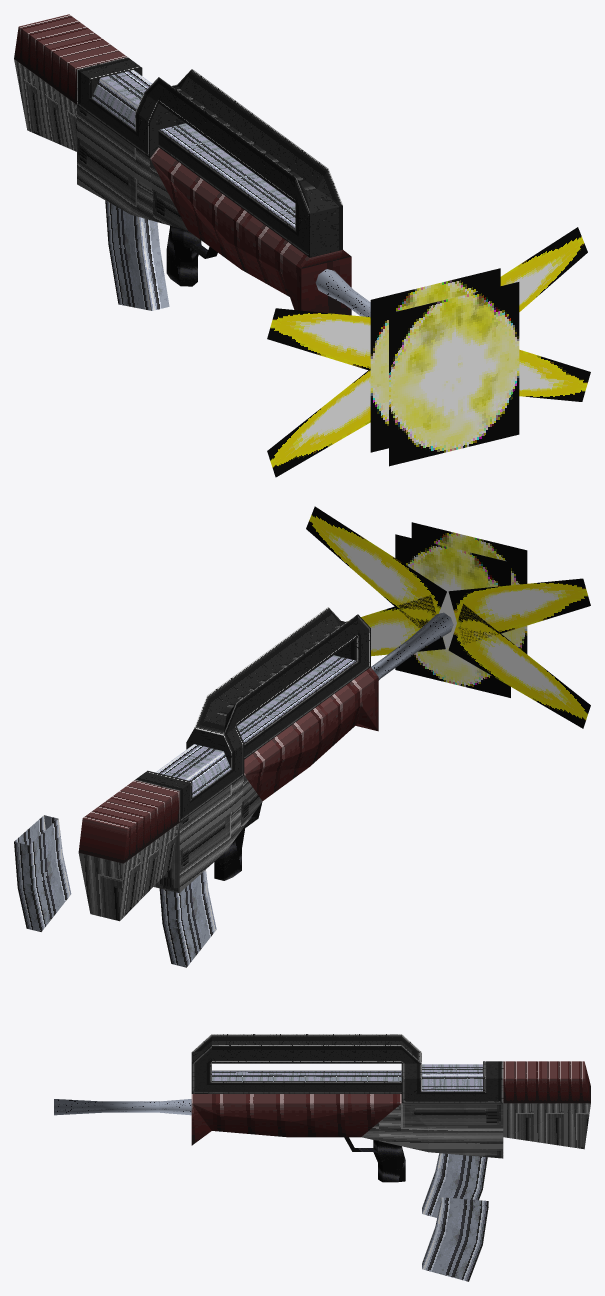
File: Gun0011.obj
The picture shows the model from 3 angles, top to bottom: view 1: azimuth 30°, elevation 25°; view 2: azimuth 150°, elevation 25°; view 3: azimuth 270°, elevation 25°; orthographic projection. The views are drawn at different scales.
Visible parts, largest first — view 1: Room04_primary, Room02_primary, Room03, Room0A_primary; view 2: Room04_primary, Room03, Room02_primary, Room08_primary, Room0A_primary; view 3: Room04_primary, Room08_primary, Room0A_primary.
Boxes of the visible parts, left/top/right/bottom form: Room04_primary: left=14, top=14, right=370, bottom=317; Room02_primary: left=370, top=268, right=519, bottom=466; Room03: left=267, top=227, right=590, bottom=477; Room0A_primary: left=105, top=200, right=169, bottom=310; Room04_primary: left=78, top=607, right=453, bottom=921; Room03: left=306, top=506, right=590, bottom=728; Room02_primary: left=395, top=522, right=527, bottom=697; Room08_primary: left=14, top=815, right=71, bottom=931; Room0A_primary: left=159, top=870, right=216, bottom=967; Room04_primary: left=54, top=1034, right=590, bottom=1182; Room08_primary: left=422, top=1197, right=488, bottom=1281; Room0A_primary: left=422, top=1153, right=487, bottom=1217.
Size of the model in its own units: 461 by 350 by 994.
Materials: 71 (71 with a texture image).
